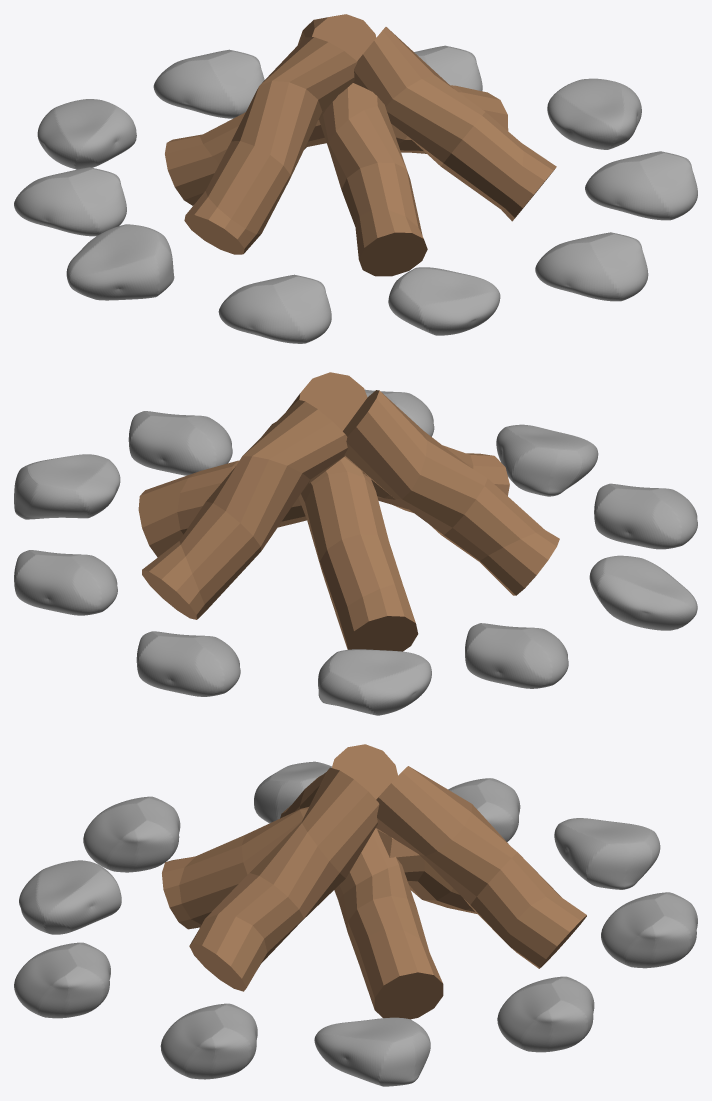
File: Charlton_campfireV1.glb
The picture shows the model from 3 angles, top to bottom: view 1: azimuth 30°, elevation 25°; view 2: azimuth 150°, elevation 25°; view 3: azimuth 270°, elevation 25°; orthographic projection. The views are drawn at different scales.
Parts seen in each view (by area): view 1: Logs, Cube.005, Cube.008, Cube.010, Cube.006, Cube.007, Cube.004, Cube.012, Cube.013, Cube.009, Cube.011; view 2: Logs, Cube.013, Cube.009, Cube.005, Cube.011, Cube.006, Cube.012, Cube.007, Cube.004, Cube.008, Cube.010; view 3: Logs, Cube.009, Cube.011, Cube.008, Cube.006, Cube.012, Cube.010, Cube.004, Cube.013, Cube.005, Cube.007.
Boxes of the visible parts, <box> form: Logs: <box>165,14,556,276</box>; Cube.005: <box>66,224,174,300</box>; Cube.008: <box>585,151,697,220</box>; Cube.010: <box>535,232,648,301</box>; Cube.006: <box>218,274,331,343</box>; Cube.007: <box>14,167,126,236</box>; Cube.004: <box>388,267,500,335</box>; Cube.012: <box>153,49,264,118</box>; Cube.013: <box>37,99,136,169</box>; Cube.009: <box>547,78,641,149</box>; Cube.011: <box>414,45,482,90</box>; Logs: <box>138,372,559,651</box>; Cube.013: <box>318,649,431,715</box>; Cube.009: <box>14,454,120,519</box>; Cube.005: <box>589,555,697,630</box>; Cube.011: <box>14,550,117,615</box>; Cube.006: <box>594,483,697,549</box>; Cube.012: <box>136,631,240,696</box>; Cube.007: <box>465,623,568,688</box>; Cube.004: <box>496,424,598,496</box>; Cube.008: <box>128,411,232,475</box>; Cube.010: <box>365,389,434,436</box>; Logs: <box>162,744,586,1019</box>; Cube.009: <box>314,1017,430,1086</box>; Cube.011: <box>497,976,594,1052</box>; Cube.008: <box>160,1003,257,1079</box>; Cube.006: <box>83,796,180,872</box>; Cube.012: <box>601,892,697,968</box>; Cube.010: <box>14,942,110,1018</box>; Cube.004: <box>19,860,121,934</box>; Cube.013: <box>554,818,660,889</box>; Cube.005: <box>254,761,331,823</box>; Cube.007: <box>448,778,520,841</box>.
Bounding box in the file's own units: 0.988 × 0.3046 × 0.9301.
